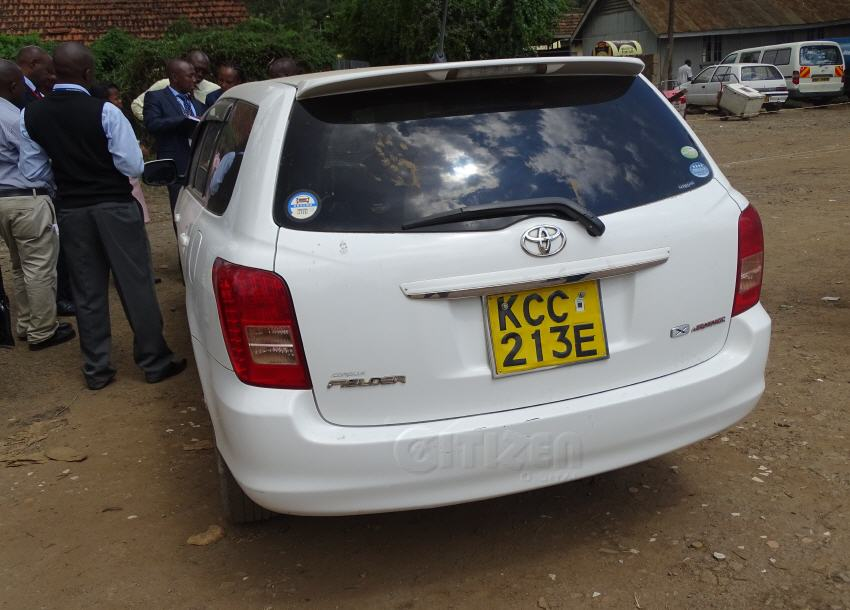licencePlate: (477, 276, 627, 377)
